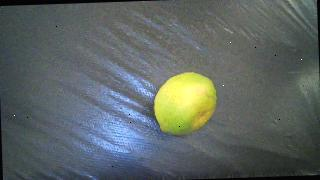DESECHO: (153, 71, 218, 135)
